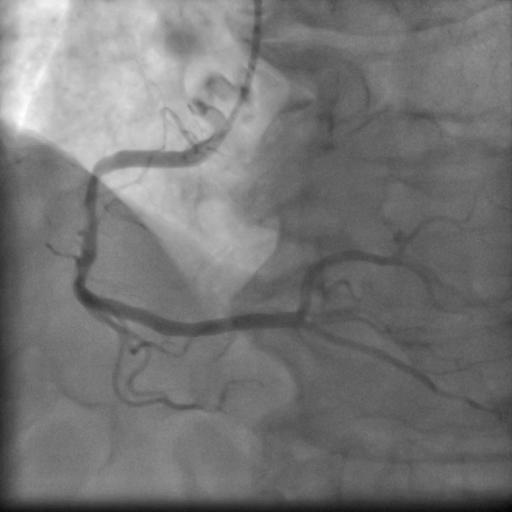Stenosis: (70, 166, 103, 288)
